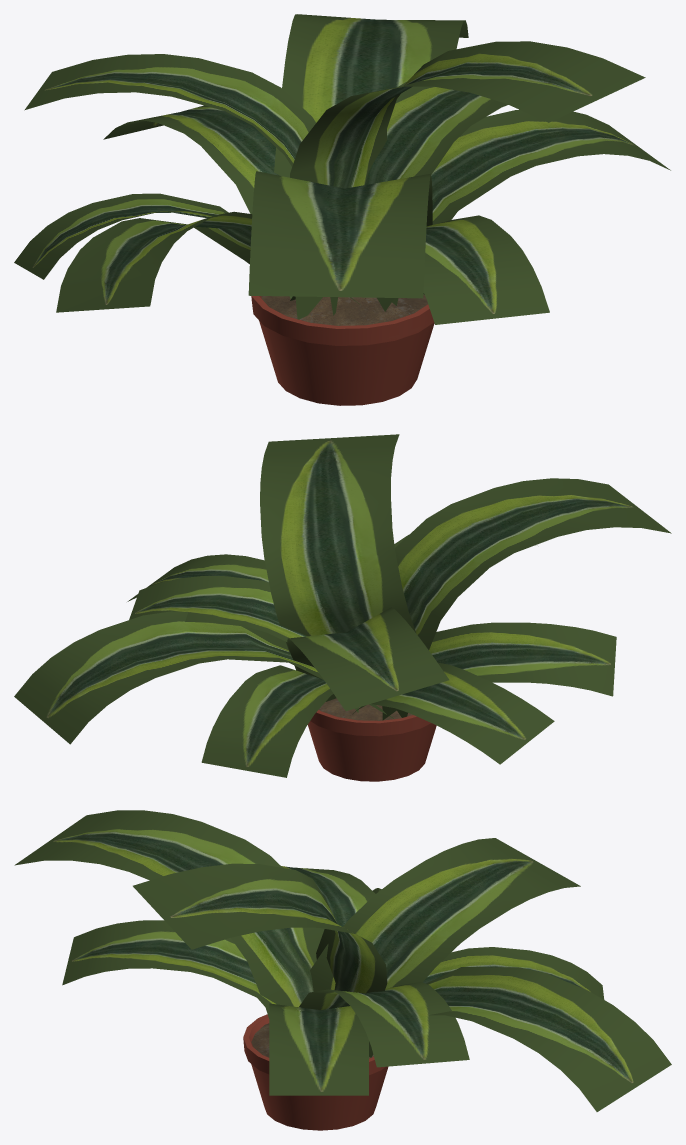
File: tree.gltf
The picture shows the model from 3 angles, top to bottom: view 1: azimuth 30°, elevation 25°; view 2: azimuth 150°, elevation 25°; view 3: azimuth 270°, elevation 25°; orthographic projection. The views are drawn at different scales.
Parts seen in each view (by area): view 1: eb_house_plant_01; view 2: eb_house_plant_01; view 3: eb_house_plant_01.
Part boxes in pixels (x1=…): eb_house_plant_01: x1=14, y1=14, x2=670, y2=405; eb_house_plant_01: x1=14, y1=434, x2=671, y2=781; eb_house_plant_01: x1=14, y1=810, x2=671, y2=1130.
Size of the model in its own units: 9.93 by 5.16 by 11.91.
1 material, 1 textured.
